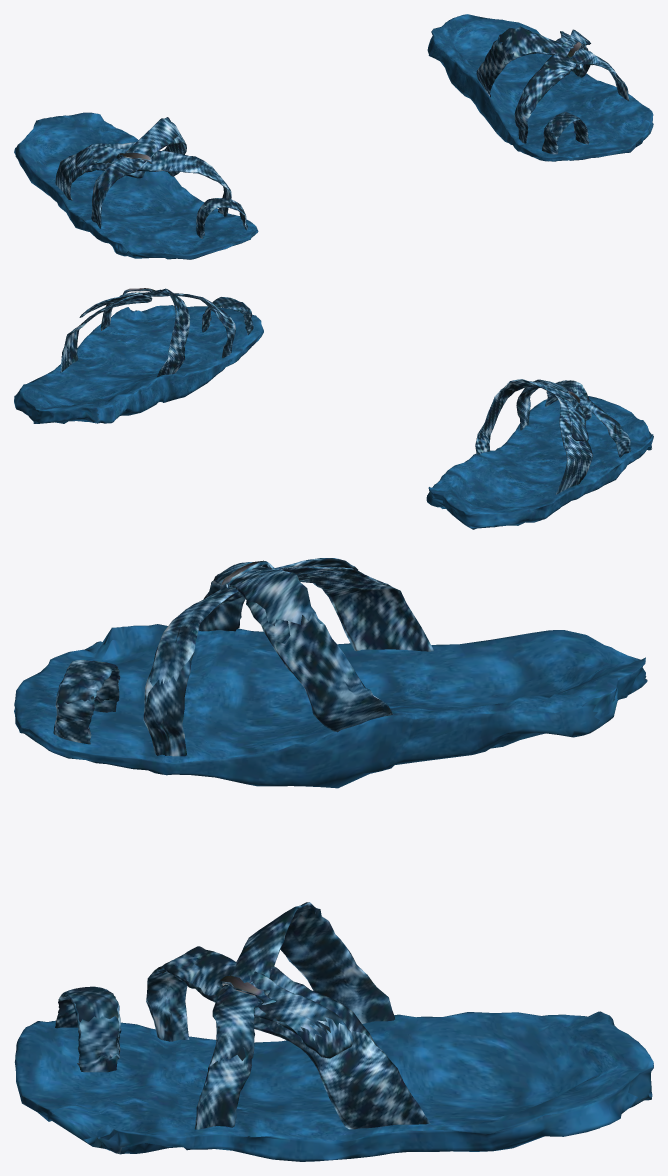
File: elvs-male-flip-flop-sandals1.glb
3 views of the same model, one above another, from view 1: azimuth 30°, elevation 25°; view 2: azimuth 150°, elevation 25°; view 3: azimuth 270°, elevation 25° (orthographic). The views are drawn at different scales.
Visible parts, largest first — view 1: Human.elvs_male_flip_flop_sandals1; view 2: Human.elvs_male_flip_flop_sandals1; view 3: Human.elvs_male_flip_flop_sandals1.
Boxes of the visible parts, x1=… form: Human.elvs_male_flip_flop_sandals1: x1=14, y1=14, x2=653, y2=259; Human.elvs_male_flip_flop_sandals1: x1=14, y1=288, x2=653, y2=529; Human.elvs_male_flip_flop_sandals1: x1=14, y1=558, x2=653, y2=1161.
Bounding box in the file's own units: 0.4605 × 0.0838 × 0.2432.
Materials: 1 (1 with a texture image).
